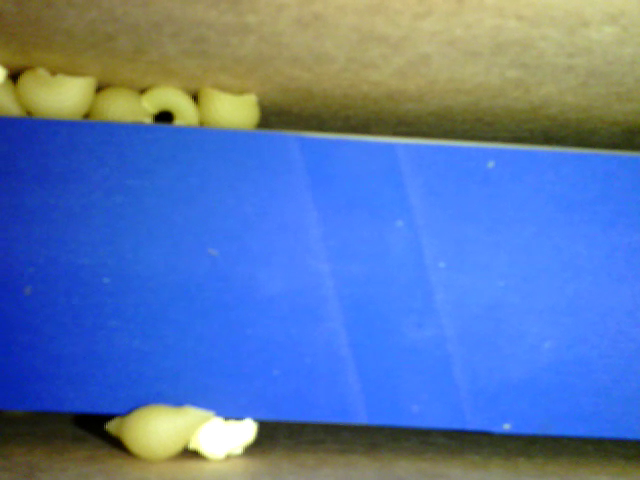elbow: (143, 86, 199, 123)
shell: (104, 401, 214, 461), (13, 64, 98, 118), (197, 85, 262, 129), (85, 84, 157, 123)
